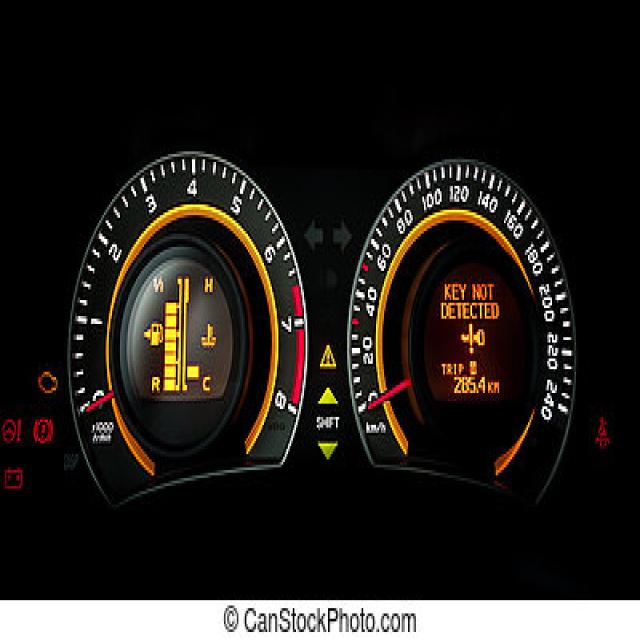Braking System Issue: (32, 414, 54, 446)
Charging System Issue: (3, 465, 24, 491)
Check Engine: (37, 370, 59, 396)
